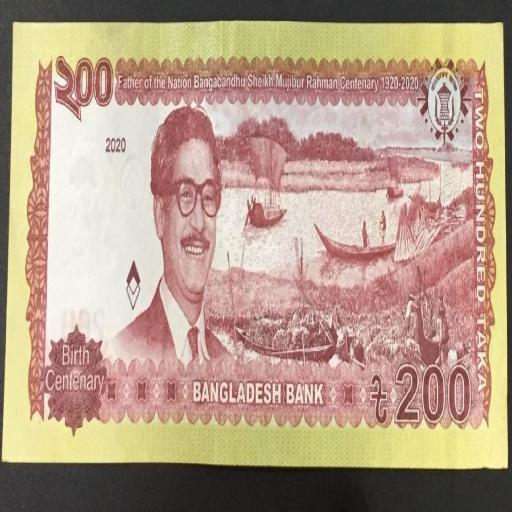200taka: (2, 22, 511, 468)
